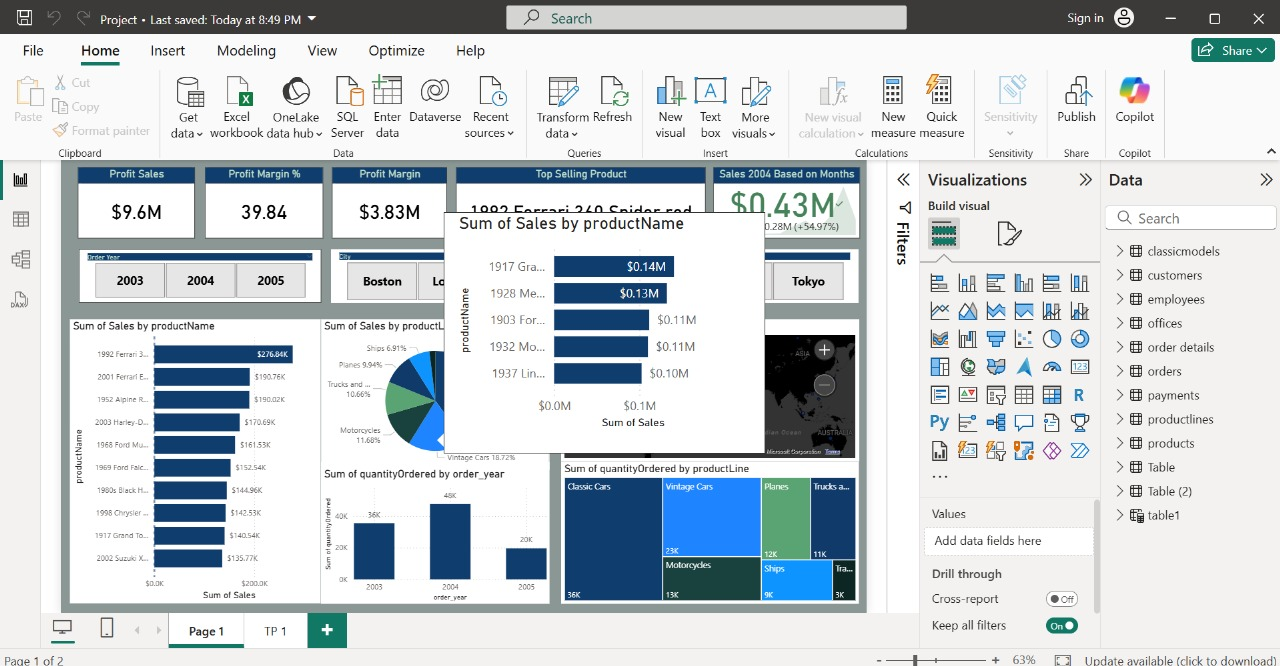

What the dashboard file says about the page in this screenshot:
{"tool":"powerbi","page":{"name":"Page 1","canvas":[1280,720],"ordinal":0},"visuals":[{"type":"card","title":"Profit Margin","fields":{"Values":["order details.total_profit"]},"box":[430.7,11.3,183,113.3],"z":0},{"type":"card","title":"Top Selling Product","fields":{"Values":["order details.MostOrderedProduct"]},"box":[625.1,12.7,396.1,112.9],"z":1000},{"type":"barChart","fields":{"Category":["products.productName"],"Y":["Sum(order details.Sales)"]},"box":[15,253.3,398.3,451.7],"z":2000},{"type":"pieChart","fields":{"Category":["products.productLine"],"Y":["Sum(order details.Sales)"]},"box":[413.6,252.9,362.7,240.2],"z":3000},{"type":"slicer","fields":{"Values":["orders.order_year"]},"box":[14.3,141.6,402.4,85.9],"z":4000},{"type":"kpi","title":"Sales 2004 Based on Months","fields":{"Indicator":["orders.sales_2004"],"Goal":["orders.sales_2003"],"TrendLine":["orders.Month Name"]},"box":[1036.3,11.3,233.2,113.3],"z":5000},{"type":"map","fields":{"Size":["CountNonNull(customers.customerNumber)"],"Category":["customers.country"]},"box":[795.3,251.3,472.4,227.5],"z":6000},{"type":"treemap","fields":{"Group":["productlines.productLine"],"Values":["Sum(order details.quantityOrdered)"]},"box":[795,480,473.3,225],"z":7000},{"type":"clusteredColumnChart","fields":{"Y":["Sum(order details.quantityOrdered)"],"Category":["orders.order_year"]},"box":[413.3,480,363.3,225],"z":8000},{"type":"card","title":"Profit Margin %","fields":{"Values":["classicmodels.Profit_Margin_%"]},"box":[225.9,12.7,190.9,112.9],"z":9000},{"type":"card","title":"Profit Sales","fields":{"Values":["Sum(order details.Sales)"]},"box":[14.3,12.7,198.8,112.9],"z":10000},{"type":"slicer","fields":{"Values":["offices.city"]},"box":[431.1,141.6,838.3,84.3],"z":11000}]}

Visuals, with their boxes on the page's 1280x720 design canvas (x1, y1, x2, y2). These are canvas units, not pixel positions in the 1280x666 screenshot, which may show the page scaled, cropped or inside an application window:
"Profit Margin" card: rect(431, 11, 614, 125)
"Top Selling Product" card: rect(625, 13, 1021, 126)
barChart - products.productName x Sum(order details.Sales): rect(15, 253, 413, 705)
pieChart - products.productLine x Sum(order details.Sales): rect(414, 253, 776, 493)
slicer - orders.order_year: rect(14, 142, 417, 228)
"Sales 2004 Based on Months" kpi: rect(1036, 11, 1270, 125)
map - CountNonNull(customers.customerNumber) x customers.country: rect(795, 251, 1268, 479)
treemap - productlines.productLine x Sum(order details.quantityOrdered): rect(795, 480, 1268, 705)
clusteredColumnChart - Sum(order details.quantityOrdered) x orders.order_year: rect(413, 480, 777, 705)
"Profit Margin %" card: rect(226, 13, 417, 126)
"Profit Sales" card: rect(14, 13, 213, 126)
slicer - offices.city: rect(431, 142, 1269, 226)
